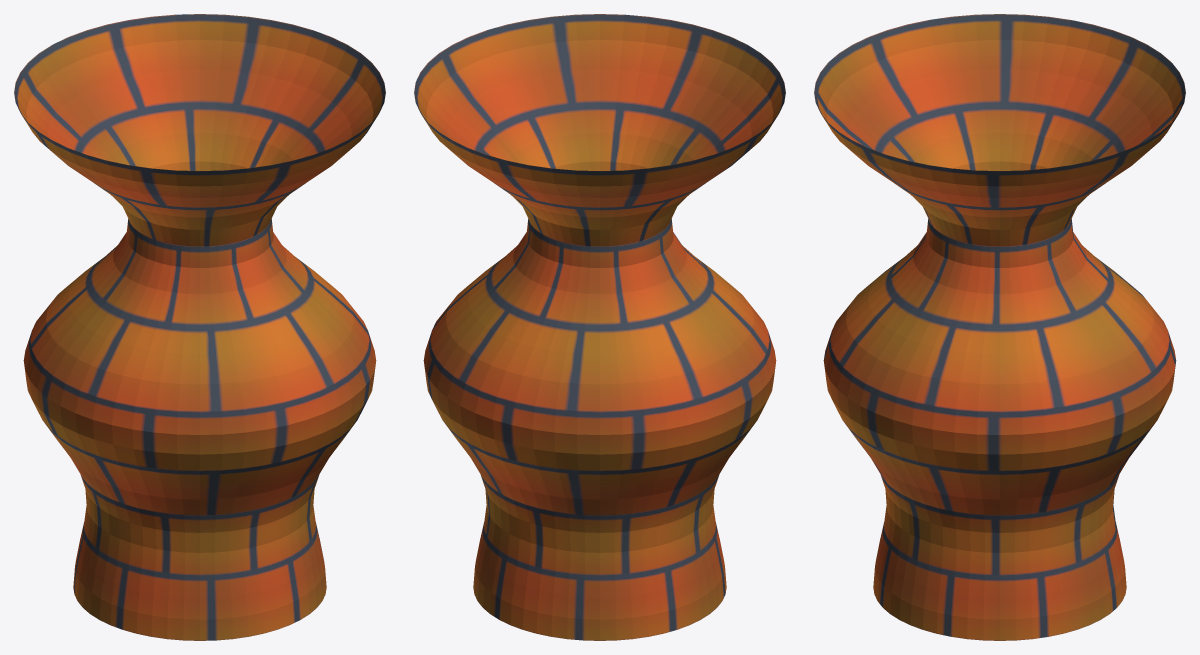
File: vase.obj
3 views of the same model, side by side, from view 1: azimuth 30°, elevation 25°; view 2: azimuth 150°, elevation 25°; view 3: azimuth 270°, elevation 25° (orthographic).
Visible parts, largest first — view 1: LathedVase; view 2: LathedVase; view 3: LathedVase.
Boxes of the visible parts, bbox=[...] form: LathedVase: bbox=[14, 14, 385, 640]; LathedVase: bbox=[414, 14, 785, 640]; LathedVase: bbox=[814, 14, 1185, 640].
Size of the model in its own units: 1.7 by 2.5 by 1.7.
Materials: 1 (1 with a texture image).
